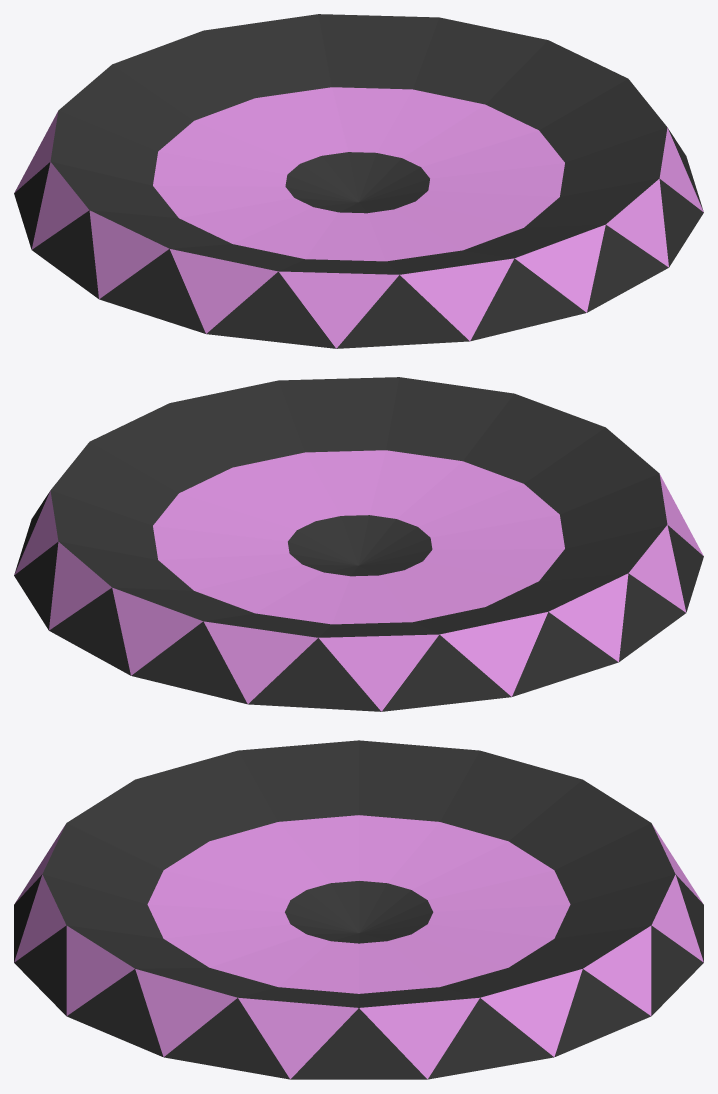
The model's file is PressurePad.fbx.
3 renders of one model, top to bottom at view 1: azimuth 30°, elevation 25°; view 2: azimuth 150°, elevation 25°; view 3: azimuth 270°, elevation 25°, orthographic.
Parts seen in each view (by area): view 1: Sphere; view 2: Sphere; view 3: Sphere.
Boxes of the visible parts, <box> form: Sphere: <box>14,14,703,348</box>; Sphere: <box>14,377,703,711</box>; Sphere: <box>14,740,703,1079</box>.
Size of the model in its own units: 181 by 17.29 by 181.
